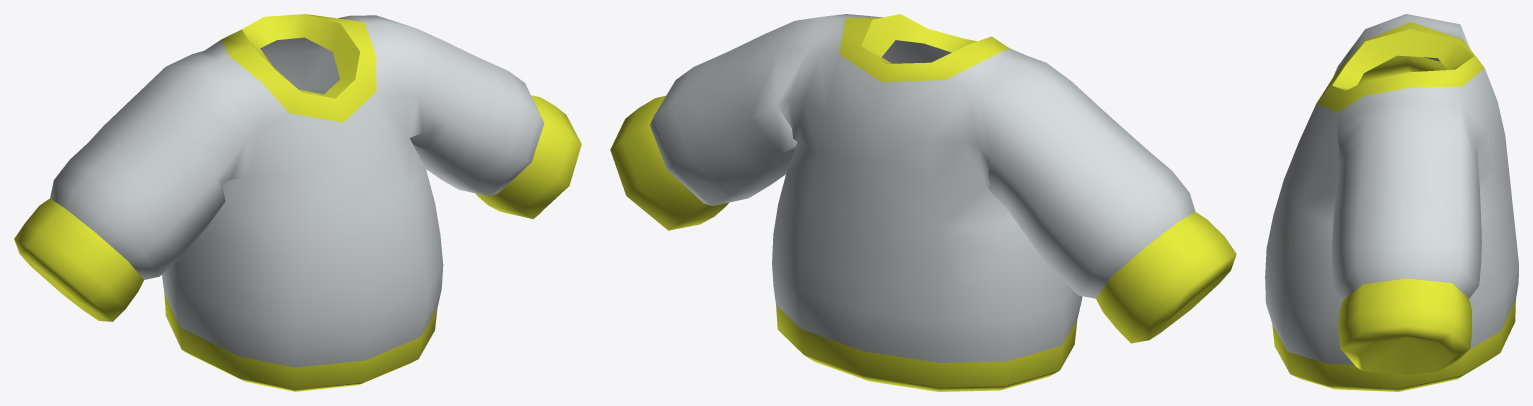
Rendered from Top_01_Fit.fbx.
3 renders of one model, left to right at view 1: azimuth 30°, elevation 25°; view 2: azimuth 150°, elevation 25°; view 3: azimuth 270°, elevation 25°, orthographic. The views are drawn at different scales.
Parts seen in each view (by area): view 1: Top_01_Fit; view 2: Top_01_Fit; view 3: Top_01_Fit.
Boxes of the visible parts, x1,y1,x2,y2 form: Top_01_Fit: (14,14,581,391); Top_01_Fit: (610,14,1236,391); Top_01_Fit: (1265,14,1518,391).
Bounding box in the file's own units: 90.5 × 48.92 × 37.16.
